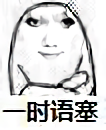dragon: (25, 16, 76, 61)
